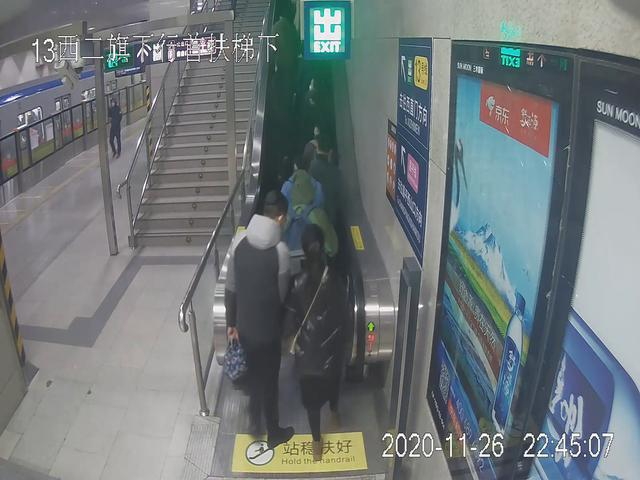person: (220, 184, 290, 471), (286, 218, 363, 456), (287, 168, 337, 308), (102, 94, 123, 164)
